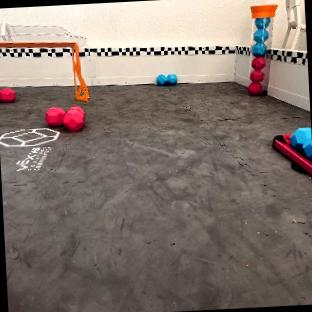V5_BLUE: (289, 126, 312, 160), (251, 18, 269, 53), (156, 74, 177, 84)
V5_RED: (44, 106, 84, 131), (248, 68, 263, 94), (0, 87, 14, 102), (252, 55, 264, 70)
